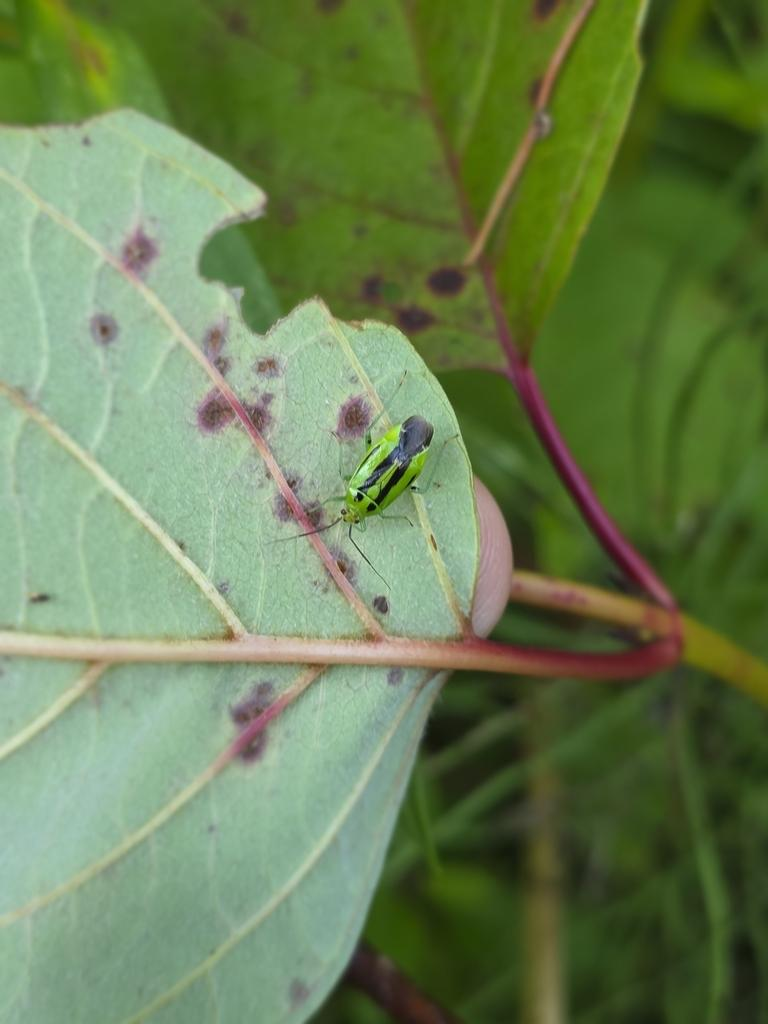plant_bugs: (237, 351, 491, 606)
